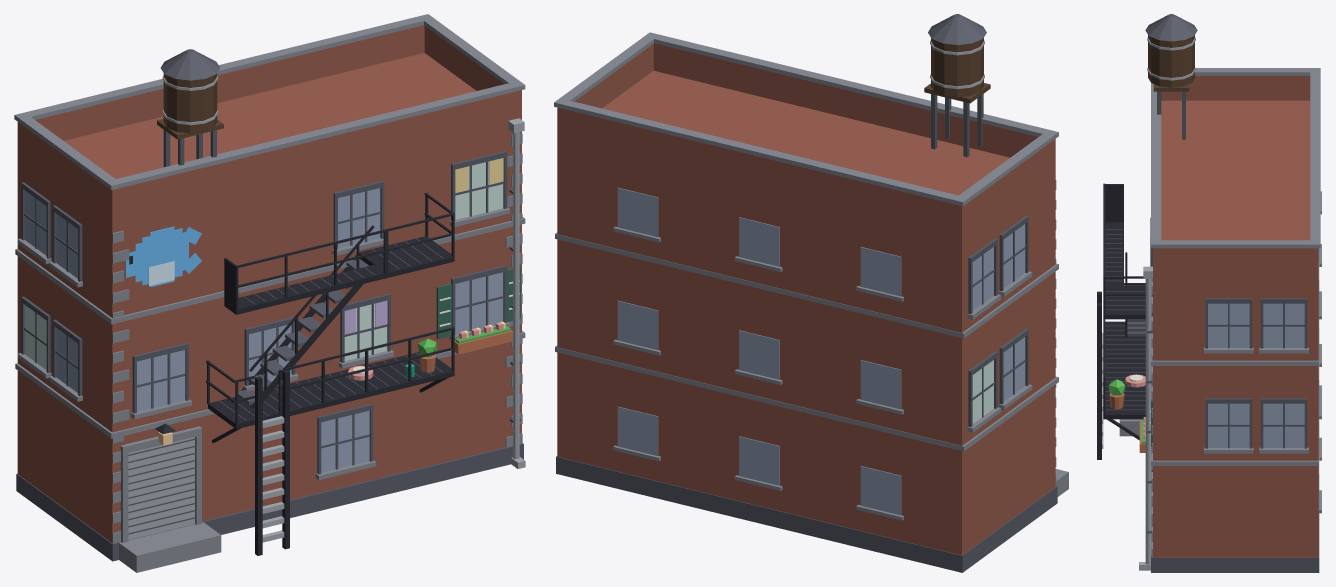
Rendered from CatCafe_Alley_Building_Warehouse.fbx.
The picture shows the model from 3 angles, left to right: view 1: azimuth 30°, elevation 25°; view 2: azimuth 150°, elevation 25°; view 3: azimuth 270°, elevation 25°; orthographic projection. The views are drawn at different scales.
Visible parts, largest first — view 1: CatCafe_Alley_Building_Warehouse, CatCafe_Alley_Building_Warehouse_Pane; view 2: CatCafe_Alley_Building_Warehouse, CatCafe_Alley_Building_Warehouse_Pane; view 3: CatCafe_Alley_Building_Warehouse.
Boxes of the visible parts, left/top/right/bottom form: CatCafe_Alley_Building_Warehouse: left=14, top=14, right=525, bottom=572; CatCafe_Alley_Building_Warehouse_Pane: left=24, top=161, right=503, bottom=369; CatCafe_Alley_Building_Warehouse: left=554, top=14, right=1068, bottom=572; CatCafe_Alley_Building_Warehouse_Pane: left=972, top=360, right=993, bottom=423; CatCafe_Alley_Building_Warehouse: left=1097, top=14, right=1321, bottom=572.
Size of the model in its own units: 30.8 by 33.6 by 16.3.
1 material, 1 textured.
